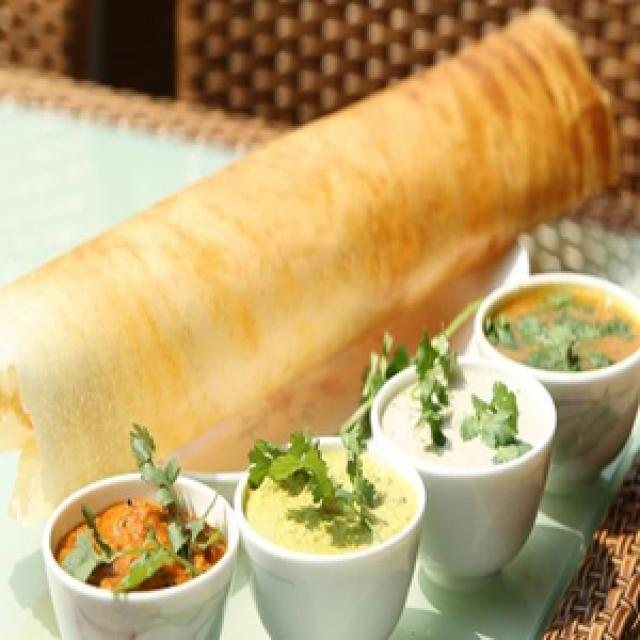dosa: (0, 4, 640, 493)
